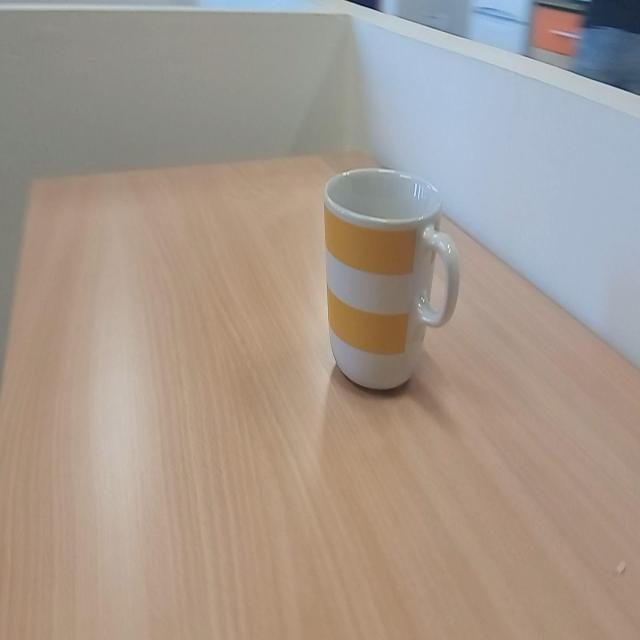cup: (319, 164, 466, 397)
